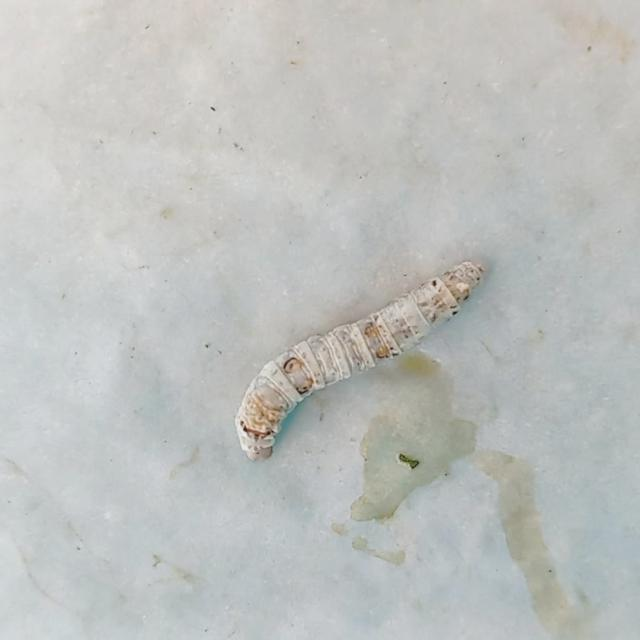Grasserie: (205, 215, 530, 513)
